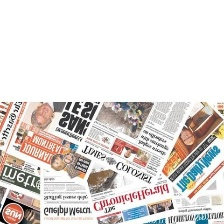news_paper: (76, 100, 191, 193), (0, 97, 98, 190), (156, 101, 224, 206), (83, 160, 178, 223), (39, 166, 103, 224), (162, 179, 223, 224), (0, 146, 53, 197), (0, 185, 49, 223)
